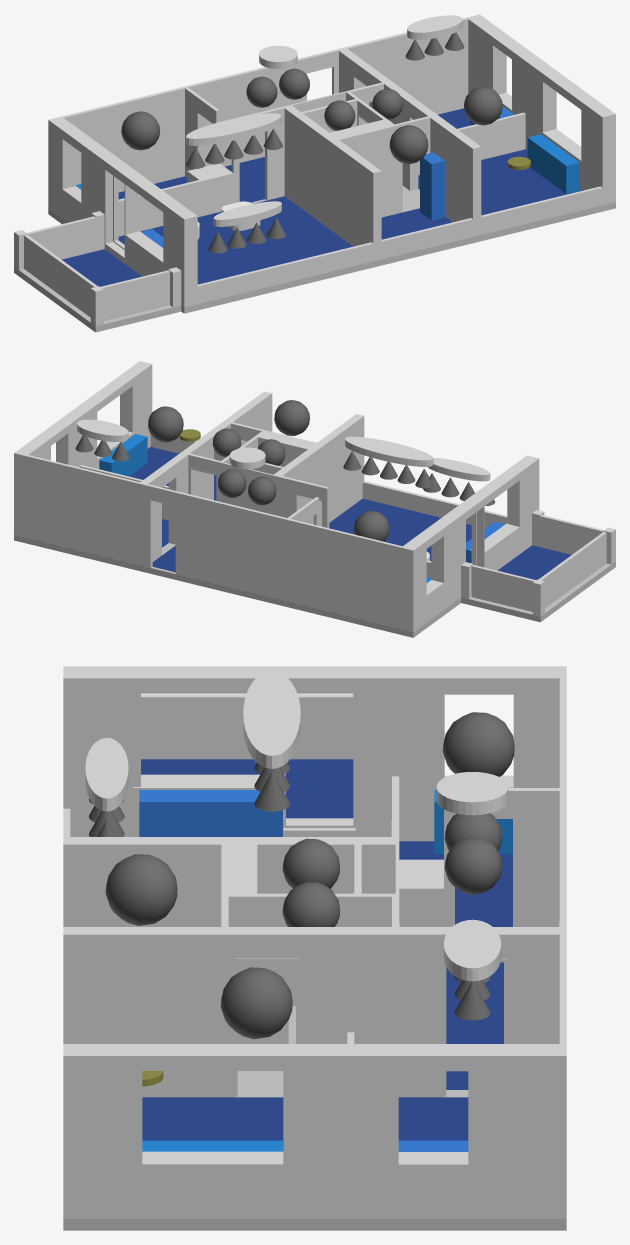
The model's file is home_s.gltf.
3 renders of one model, top to bottom at view 1: azimuth 30°, elevation 25°; view 2: azimuth 150°, elevation 25°; view 3: azimuth 270°, elevation 25°, orthographic. The views are drawn at different scales.
Visible parts, largest first — view 1: Rooms, Livingroom_floor, Ground.001, Office_floor, Office Heater, Livingroom Center Light Group, Balcony_floor, Bathroom Heater, Kitchen, Office Bulb, Bathroom, Bathroom_floor (+8 smaller); view 2: Rooms, Ground.001, Livingroom_floor, Livingroom Center Light Group, Balcony_floor, Office Heater, Office Bulb, Bathroom, Livingroom Malms Light Group, Bedroom Light Group, Kitchen, Office_floor (+6 smaller); view 3: Rooms, Ground.001, Office_floor, Livingroom Heater, Balcony_floor, Livingroom Center Light Group, Bathroom, Office Bulb, Kitchen, Hallway_floor, Bedroom_floor, Kitchen_floor (+13 smaller).
Boxes of the visible parts, x1=… form: Rooms: x1=14, y1=14, x2=615, y2=325; Livingroom_floor: x1=140, y1=196, x2=352, y2=284; Ground.001: x1=14, y1=189, x2=615, y2=332; Office_floor: x1=418, y1=149, x2=582, y2=215; Office Heater: x1=527, y1=134, x2=579, y2=193; Livingroom Center Light Group: x1=186, y1=113, x2=281, y2=145; Balcony_floor: x1=62, y1=249, x2=141, y2=286; Bathroom Heater: x1=420, y1=152, x2=444, y2=220; Kitchen: x1=121, y1=111, x2=160, y2=150; Office Bulb: x1=464, y1=86, x2=502, y2=125; Bathroom: x1=389, y1=125, x2=428, y2=163; Bathroom_floor: x1=381, y1=208, x2=452, y2=239; Rooms: x1=14, y1=361, x2=615, y2=631; Ground.001: x1=14, y1=534, x2=615, y2=637; Livingroom_floor: x1=329, y1=498, x2=484, y2=560; Livingroom Center Light Group: x1=345, y1=436, x2=433, y2=466; Balcony_floor: x1=498, y1=545, x2=571, y2=579; Office Heater: x1=99, y1=434, x2=147, y2=476; Office Bulb: x1=148, y1=406, x2=183, y2=442; Bathroom: x1=274, y1=400, x2=309, y2=435; Livingroom Malms Light Group: x1=428, y1=458, x2=490, y2=481; Bedroom Light Group: x1=77, y1=419, x2=128, y2=441; Kitchen: x1=354, y1=510, x2=389, y2=541; Office_floor: x1=129, y1=447, x2=216, y2=500; Rooms: x1=63, y1=666, x2=566, y2=1218; Ground.001: x1=63, y1=1090, x2=566, y2=1230; Office_floor: x1=142, y1=1097, x2=283, y2=1151; Livingroom Heater: x1=139, y1=790, x2=282, y2=836; Balcony_floor: x1=141, y1=759, x2=353, y2=818; Livingroom Center Light Group: x1=243, y1=671, x2=300, y2=768; Bathroom: x1=105, y1=854, x2=177, y2=925; Office Bulb: x1=220, y1=967, x2=292, y2=1039; Kitchen: x1=442, y1=712, x2=514, y2=776; Hallway_floor: x1=446, y1=962, x2=503, y2=1089; Bedroom_floor: x1=398, y1=1097, x2=468, y2=1140; Kitchen_floor: x1=399, y1=841, x2=512, y2=926.
Size of the model in its own units: 15.38 by 3.68 by 7.01.
